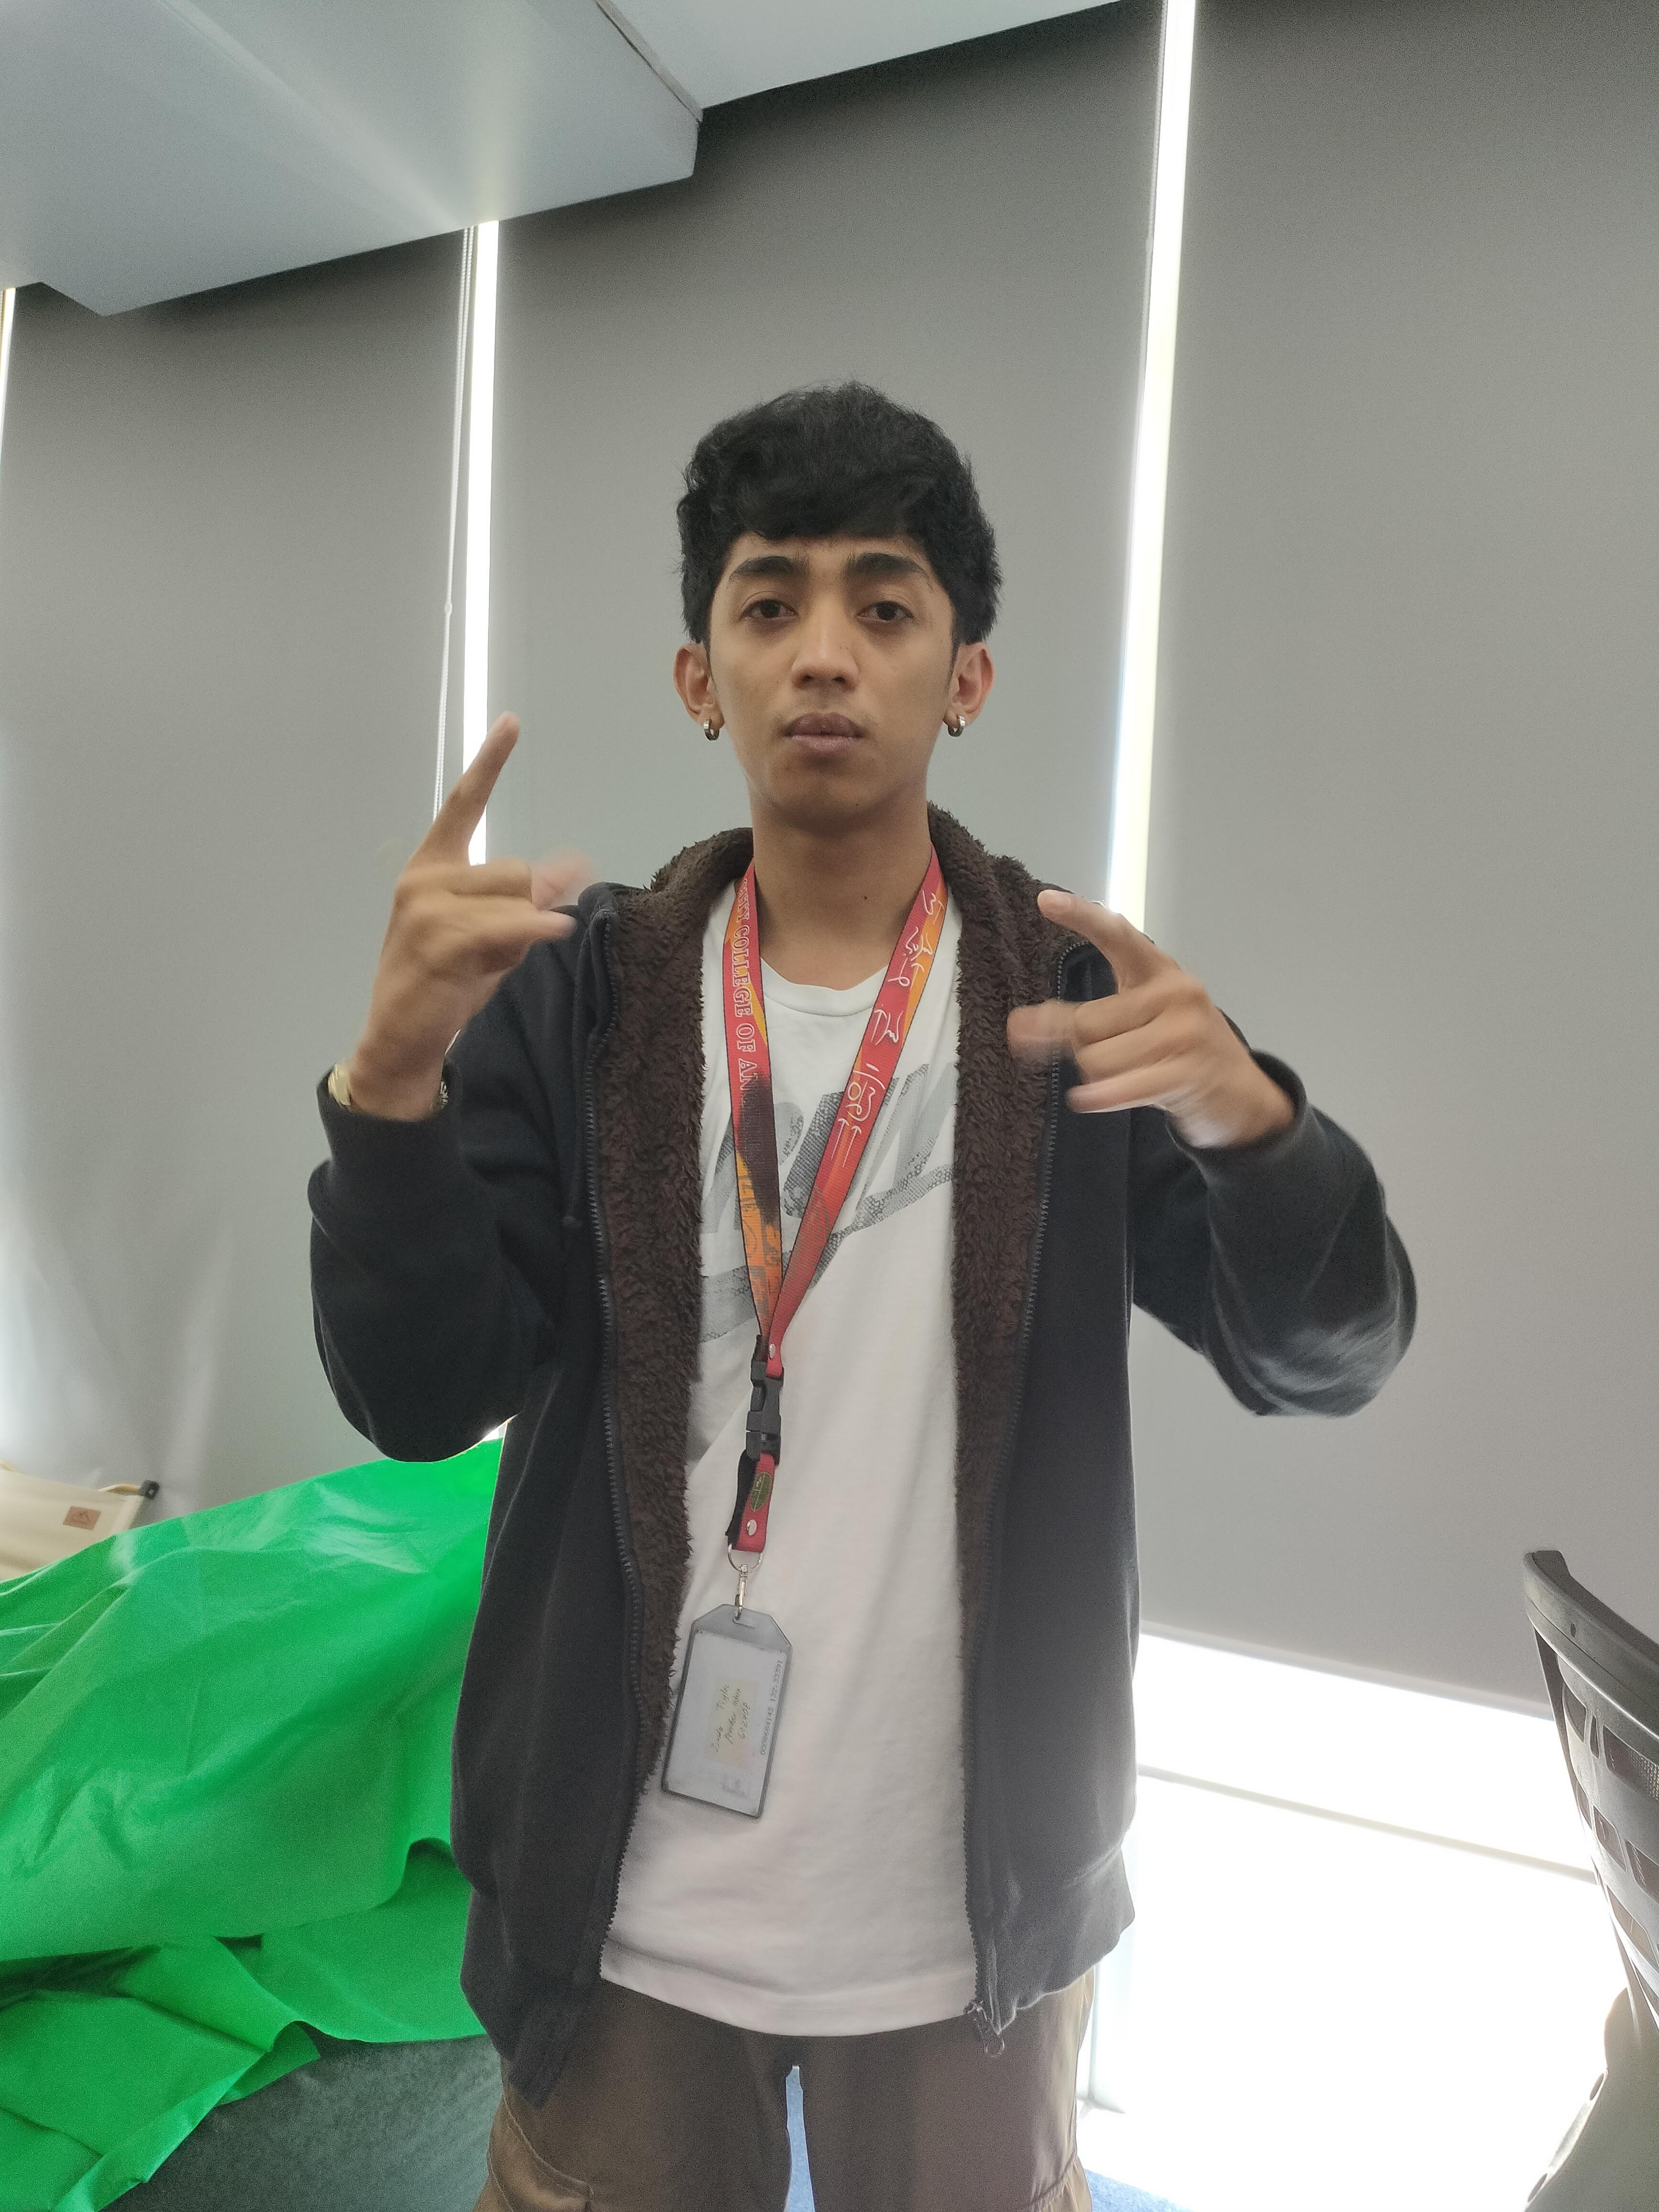Love_you: (958, 845, 1305, 1181), (380, 711, 647, 1062)
